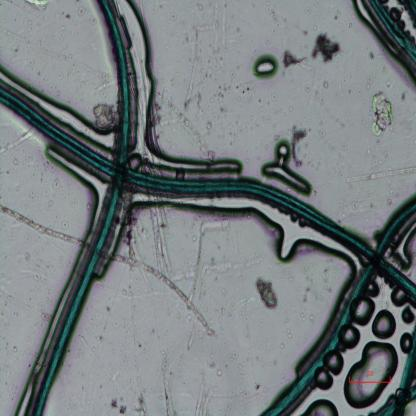Air bubble: (122, 0, 243, 173), (254, 212, 319, 271), (343, 341, 398, 409), (260, 138, 314, 198), (318, 350, 344, 392), (372, 308, 398, 340), (252, 52, 279, 81), (301, 398, 339, 414), (340, 326, 360, 352), (354, 300, 375, 324), (399, 330, 414, 354), (400, 304, 416, 326), (389, 287, 405, 307)
Background material: (113, 252, 214, 338), (0, 200, 84, 248), (182, 7, 214, 106), (155, 79, 199, 139), (346, 163, 416, 187), (215, 108, 248, 150), (312, 30, 343, 68), (369, 90, 394, 135), (254, 272, 282, 312), (14, 154, 50, 182), (265, 4, 288, 42), (92, 100, 119, 130), (290, 124, 310, 158), (210, 40, 232, 70), (281, 47, 309, 70), (216, 84, 238, 112), (220, 303, 238, 332), (161, 373, 173, 416), (195, 385, 211, 416), (200, 56, 215, 88), (319, 270, 335, 297), (343, 206, 375, 219), (22, 0, 51, 14), (110, 393, 128, 415), (232, 79, 254, 97), (136, 386, 148, 416), (306, 158, 324, 174), (332, 158, 345, 180), (298, 308, 317, 323), (5, 340, 20, 356), (300, 283, 312, 302), (168, 10, 180, 29), (265, 88, 277, 107), (298, 83, 318, 94), (159, 350, 169, 372), (316, 89, 327, 109), (51, 72, 71, 83), (8, 44, 21, 60), (73, 1, 86, 17), (206, 349, 216, 369), (56, 215, 69, 230), (314, 124, 324, 141), (332, 4, 341, 22), (282, 328, 294, 341), (365, 74, 374, 90), (230, 347, 243, 358), (53, 179, 64, 192), (203, 120, 214, 133), (366, 48, 375, 63), (382, 78, 393, 90), (61, 11, 70, 25), (398, 90, 408, 102), (93, 333, 104, 343), (299, 26, 309, 36), (277, 111, 287, 120), (386, 196, 392, 207), (254, 383, 260, 394), (104, 304, 111, 313), (257, 96, 263, 104), (218, 369, 223, 378), (138, 341, 142, 351), (342, 144, 348, 150), (178, 372, 182, 380), (324, 81, 328, 89)
Microfibre: (0, 90, 416, 299), (31, 0, 133, 416), (374, 322, 416, 414), (370, 0, 416, 62)
